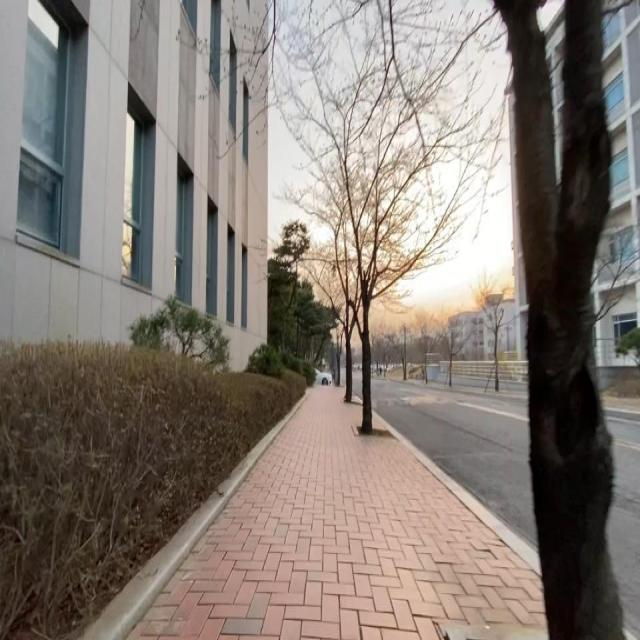sidewalk: (127, 387, 551, 640), (603, 396, 640, 415)
